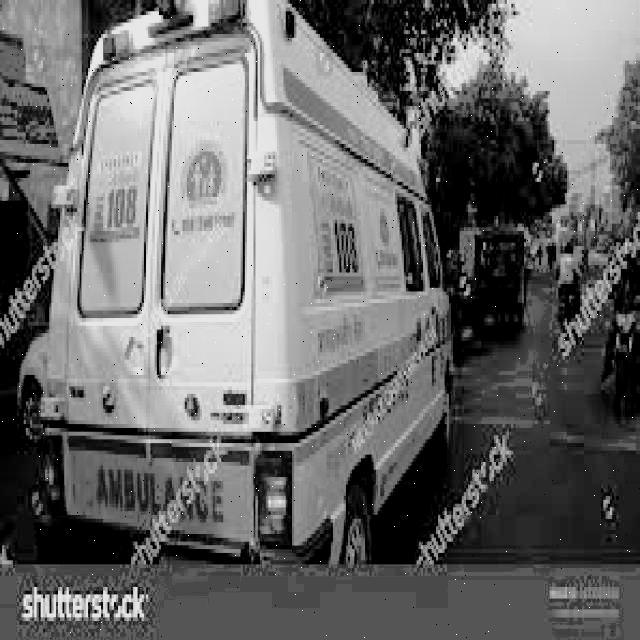LCV: (45, 0, 288, 551)
